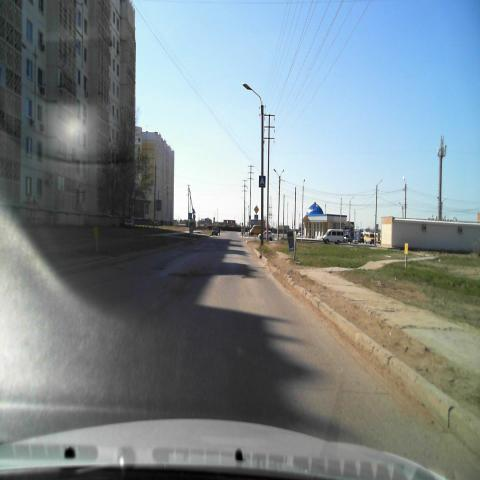2_1: (254, 206, 259, 214)
5_20: (258, 175, 266, 187)
